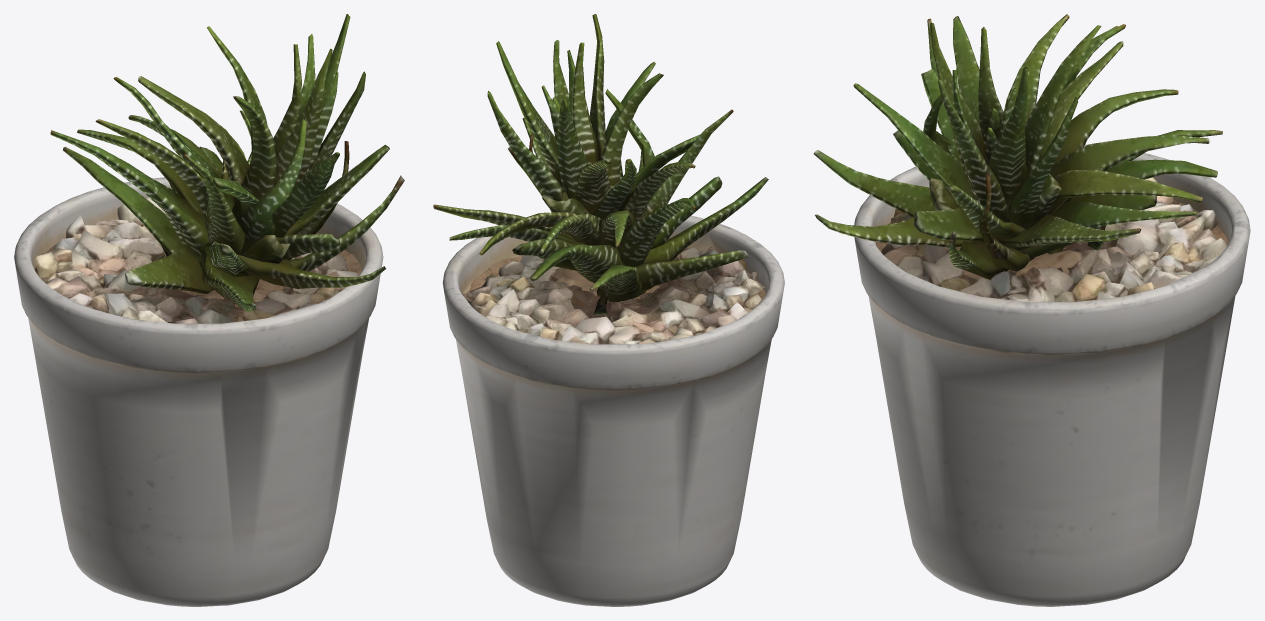
The model's file is potted_plant_04.glb.
The picture shows the model from 3 angles, left to right: view 1: azimuth 30°, elevation 25°; view 2: azimuth 150°, elevation 25°; view 3: azimuth 270°, elevation 25°; orthographic projection. The views are drawn at different scales.
Visible parts, largest first — view 1: potted_plant_04_ground; view 2: potted_plant_04_ground; view 3: potted_plant_04_ground.
Part boxes in pixels (x1=…): potted_plant_04_ground: x1=14, y1=14, x2=404, y2=606; potted_plant_04_ground: x1=433, y1=14, x2=784, y2=606; potted_plant_04_ground: x1=813, y1=14, x2=1250, y2=606.
Size of the model in its own units: 0.1679 by 0.2673 by 0.1848.
1 material, 1 textured.
